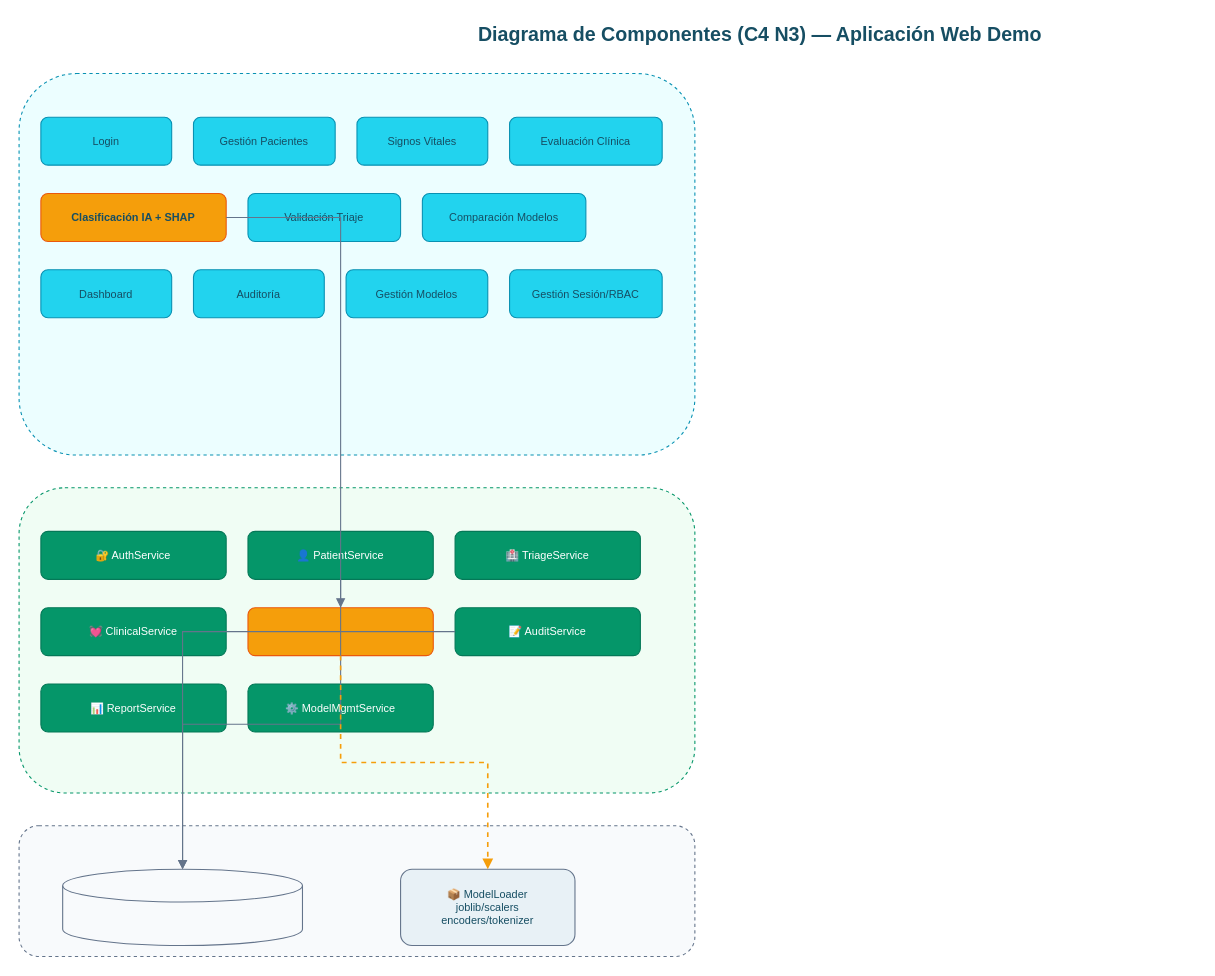
The diagram is 1215 pixels wide and 976 high, and some of its shapes have lost their labels. The shapes that lost their labels are listed below. From the top down, each one's box as (x1, y1, x2, y2) in pixels, then its label:
(18, 72, 695, 455): Capa UI (Streamlit)
(247, 607, 433, 656): 🧠 InferenceService
(18, 487, 695, 793): Capa de Servicios (Python)
(62, 868, 302, 946): 🗄️ SQLite Database 12 tablas modelo dominio + auditoría + usuarios + modelos
(18, 825, 695, 956): Capa de Datos
